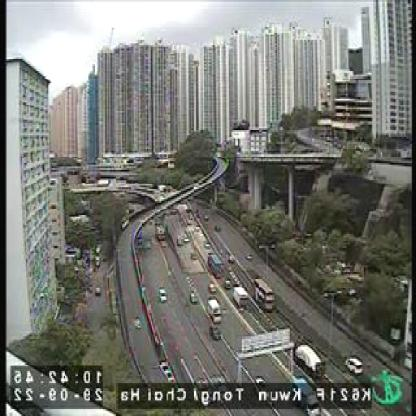Bus: (254, 274, 275, 312)
Car: (340, 352, 366, 376), (208, 298, 224, 326), (209, 322, 224, 340), (160, 283, 172, 305), (225, 277, 234, 292), (189, 290, 200, 301), (209, 283, 218, 294), (178, 236, 186, 248), (190, 250, 199, 260), (215, 224, 221, 234), (247, 251, 253, 260)
Truck: (288, 333, 328, 386), (207, 249, 226, 280)
